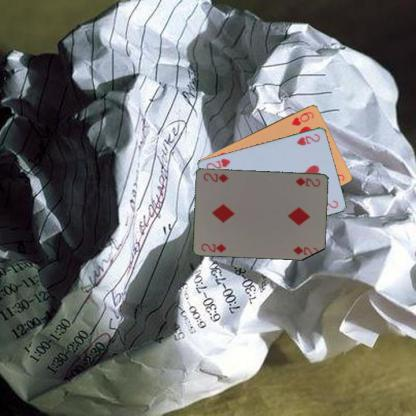2d: (293, 174, 321, 188), (198, 241, 228, 254)
2h: (294, 131, 321, 147)
6h: (289, 109, 315, 127)
